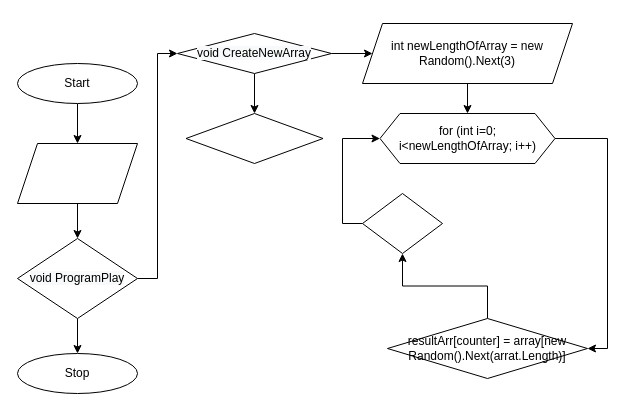
Image size: 633x411. Some labels were removed from this diagram. The shapes that lost their labels are listed below. From the top down, each one's box as (x1, y1, x2, y2) in pixels, then its label:
(185, 112, 323, 164): void PrintArray
(16, 142, 138, 204): Create array's and resultArray
(362, 192, 442, 254): counter++
